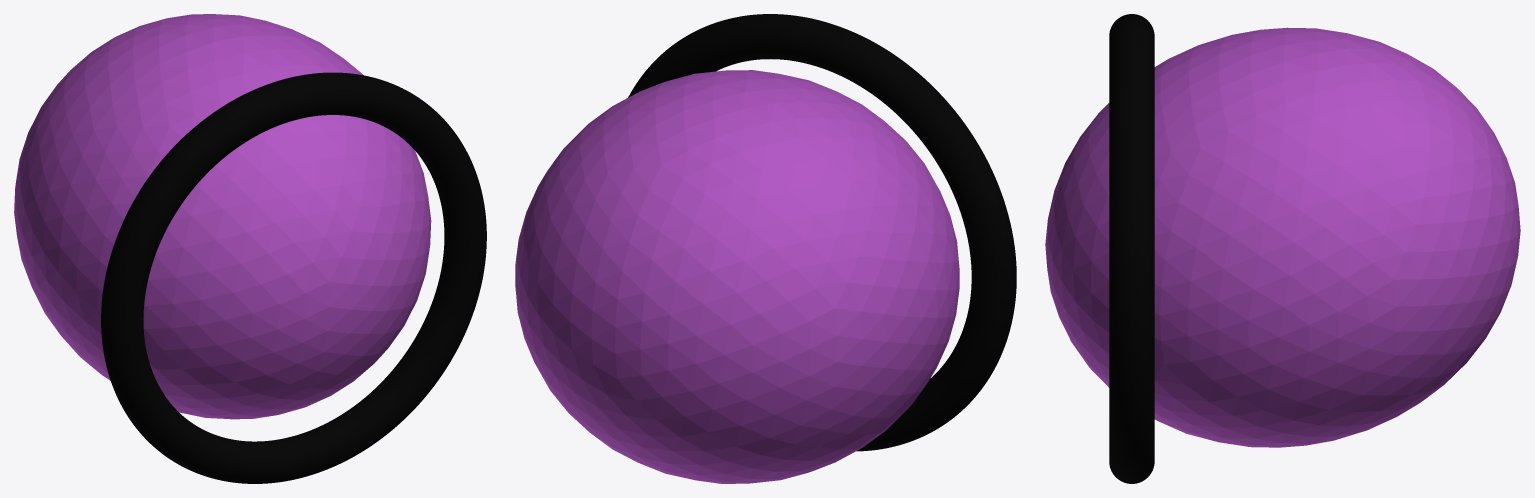
The model's file is G01_INITIAL.glb.
3 renders of one model, left to right at view 1: azimuth 30°, elevation 25°; view 2: azimuth 150°, elevation 25°; view 3: azimuth 270°, elevation 25°, orthographic. The views are drawn at different scales.
Visible parts, largest first — view 1: G01_INITIAL, Ring_CAD; view 2: G01_INITIAL, Ring_CAD; view 3: G01_INITIAL, Ring_CAD.
Part boxes in pixels (x1=…): G01_INITIAL: x1=14, y1=14, x2=431, y2=419; Ring_CAD: x1=101, y1=72, x2=486, y2=483; G01_INITIAL: x1=515, y1=70, x2=959, y2=483; Ring_CAD: x1=628, y1=14, x2=1016, y2=451; G01_INITIAL: x1=1045, y1=27, x2=1520, y2=447; Ring_CAD: x1=1109, y1=14, x2=1154, y2=483.
Bounding box in the file's own units: 0.0124 × 0.0124 × 0.0125.
